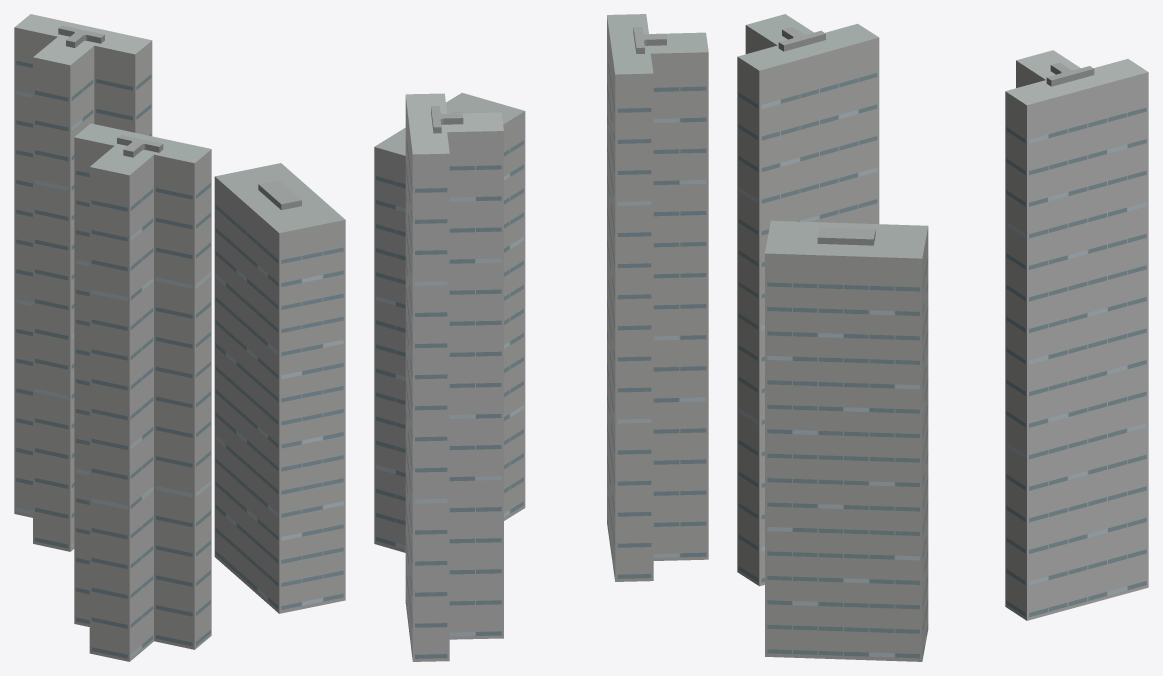
Rendered from apt-a10024503.glb.
3 renders of one model, left to right at view 1: azimuth 30°, elevation 25°; view 2: azimuth 150°, elevation 25°; view 3: azimuth 270°, elevation 25°, orthographic. The views are drawn at different scales.
Parts seen in each view (by area): view 1: apt-a10024503; view 2: apt-a10024503; view 3: apt-a10024503.
Part boxes in pixels (<box>): apt-a10024503: <box>14,14,345,661</box>; apt-a10024503: <box>374,14,708,661</box>; apt-a10024503: <box>737,14,1148,661</box>.
Bounding box in the file's own units: 109 × 200 × 143.
